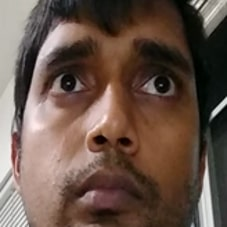awake: (39, 31, 197, 219)
